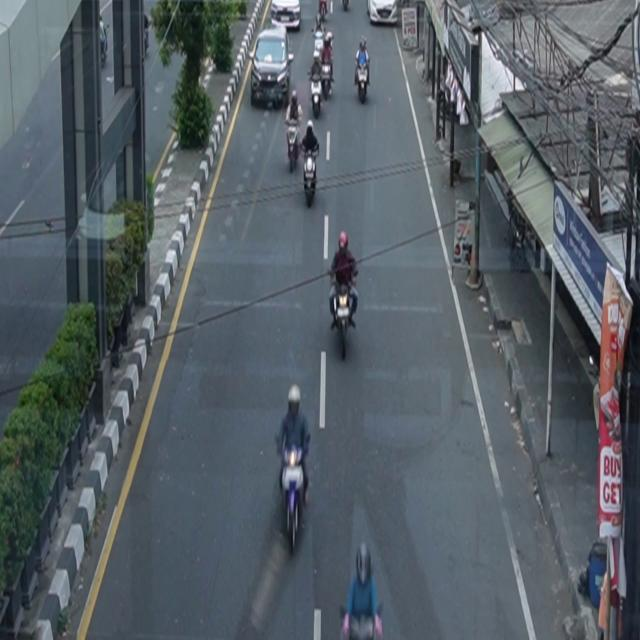car: (249, 27, 295, 110), (367, 1, 398, 26)
